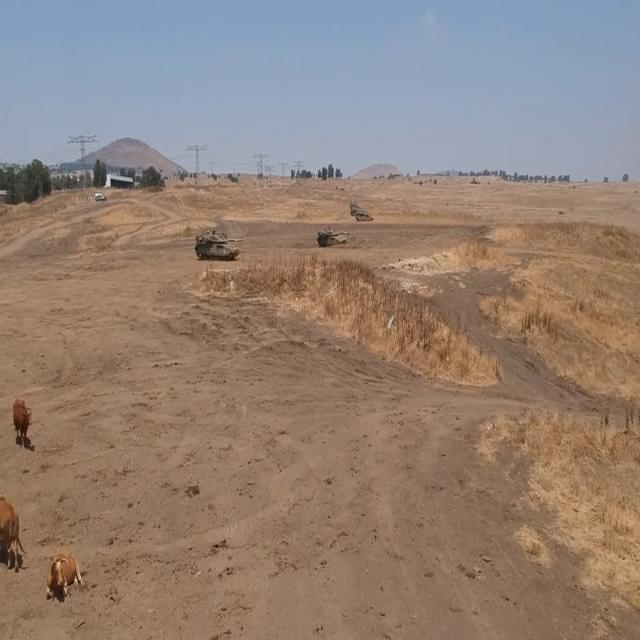tank: (194, 227, 243, 262), (318, 218, 346, 251), (354, 212, 374, 226), (351, 198, 362, 212)
